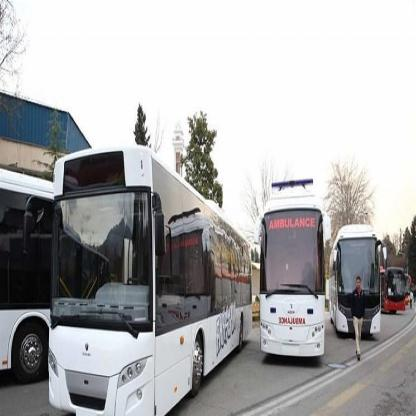Bus: (47, 145, 254, 416), (254, 180, 328, 361), (0, 151, 55, 384), (328, 216, 388, 336), (379, 258, 407, 322)
